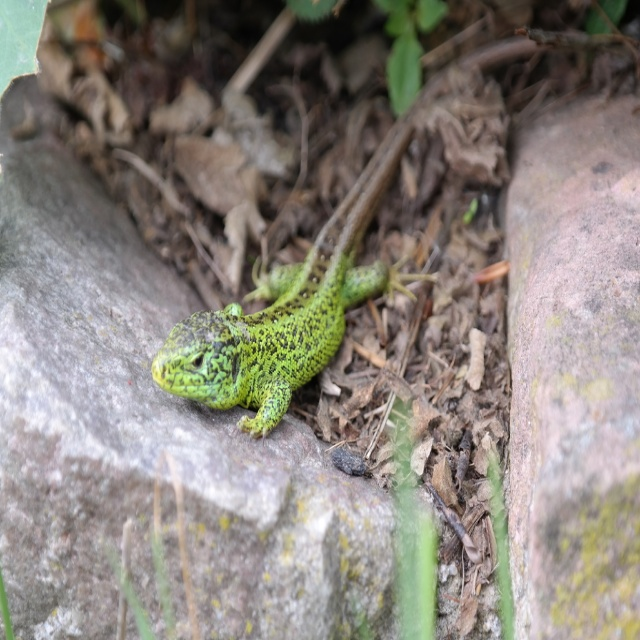Lizard: (156, 160, 420, 457)
